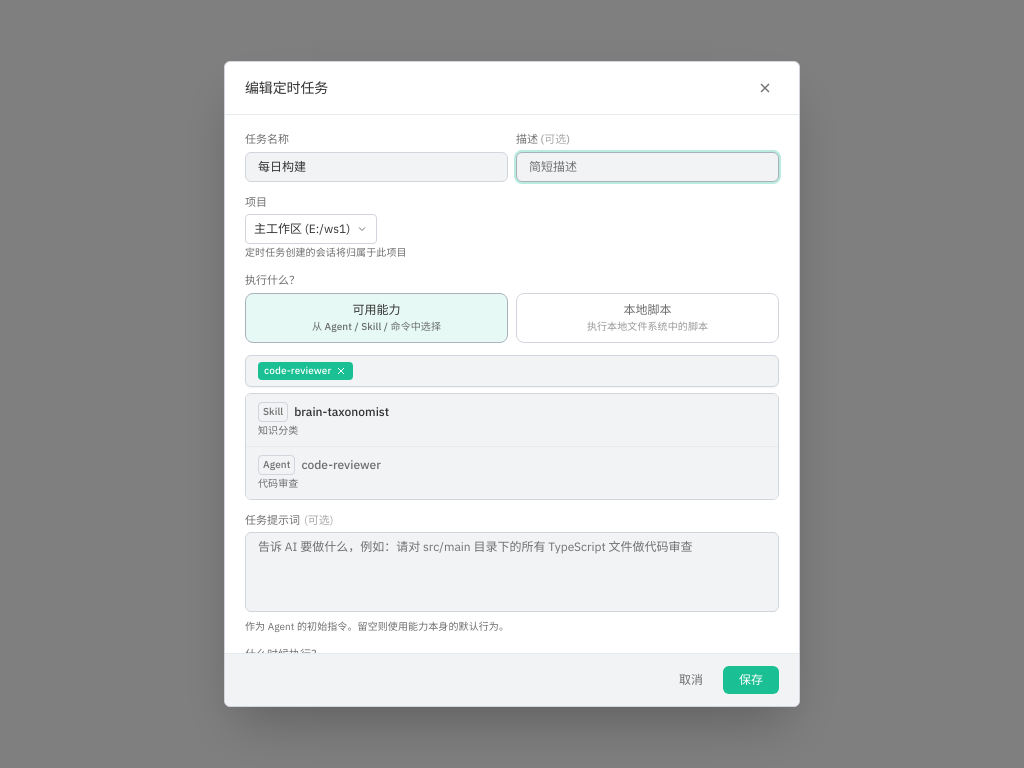
错误提示可被读屏软件播报（H6） › 写失败时 live region 恰好一处（role="alert"），内容为可读原因
Expected: the text "code-reviewer" is shown, [258,362,353,380]
Click the button "保存".
click(751, 680)  # box [723,666,779,694]
(page scrolled)
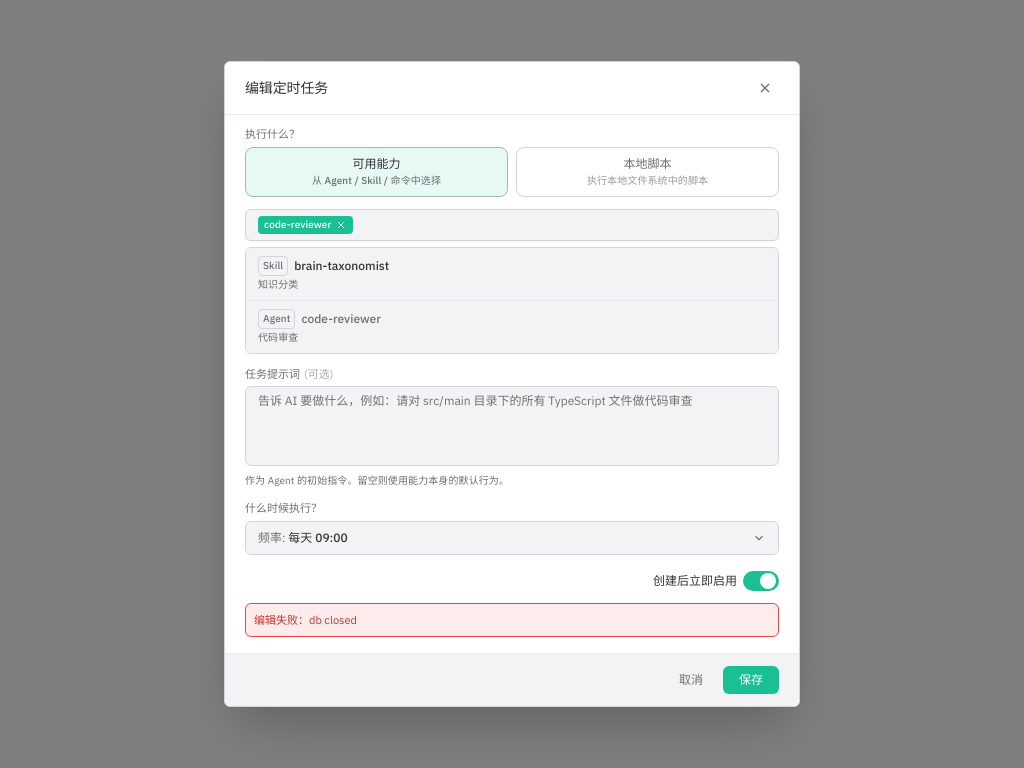
Now the number of messages is 1, box [245,603,779,637]
